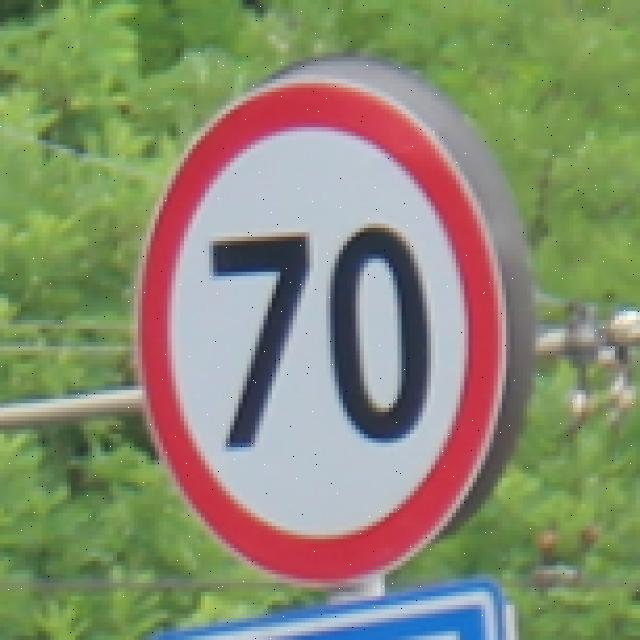speed limit 70: (135, 76, 511, 586)
